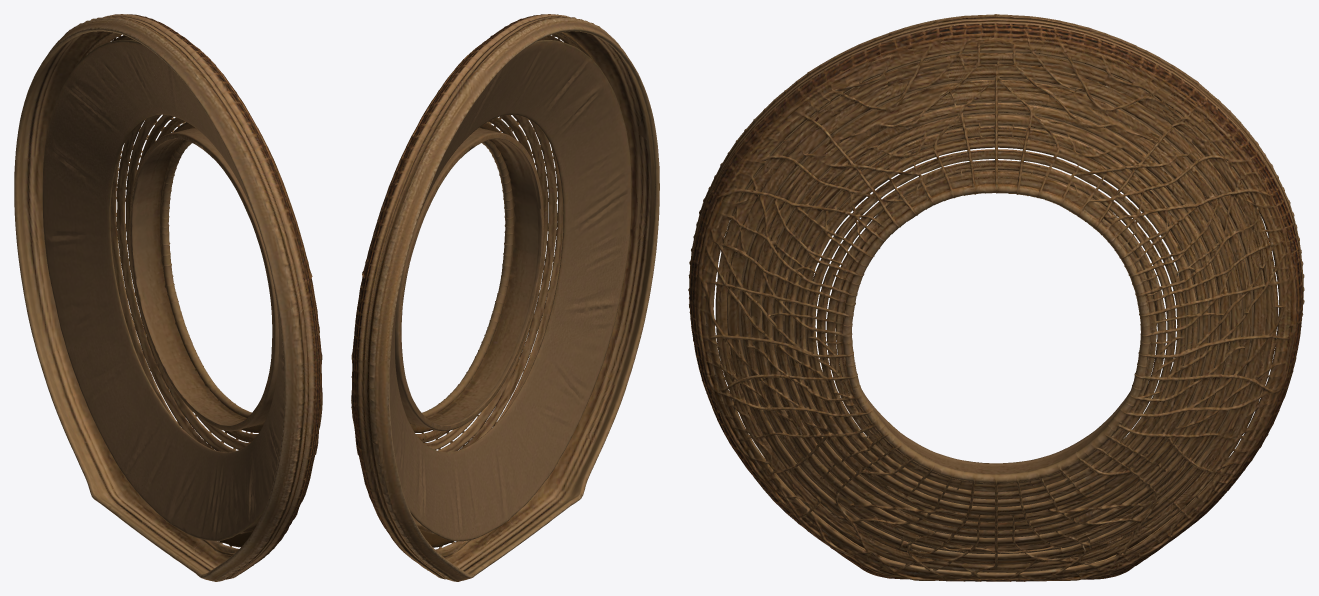
The model's file is art_ring.glb.
3 renders of one model, left to right at view 1: azimuth 30°, elevation 25°; view 2: azimuth 150°, elevation 25°; view 3: azimuth 270°, elevation 25°, orthographic. The views are drawn at different scales.
Parts seen in each view (by area): view 1: tripo_node_e8bf0414-7faf-4a59-957a-ba86b8dec961; view 2: tripo_node_e8bf0414-7faf-4a59-957a-ba86b8dec961; view 3: tripo_node_e8bf0414-7faf-4a59-957a-ba86b8dec961.
Part boxes in pixels (x1,y1,x2,y2): tripo_node_e8bf0414-7faf-4a59-957a-ba86b8dec961: (14, 14, 322, 581); tripo_node_e8bf0414-7faf-4a59-957a-ba86b8dec961: (351, 14, 659, 581); tripo_node_e8bf0414-7faf-4a59-957a-ba86b8dec961: (688, 14, 1304, 581).
Size of the model in its own units: 0.1112 by 0.6 by 0.5994.
1 material, 1 textured.
